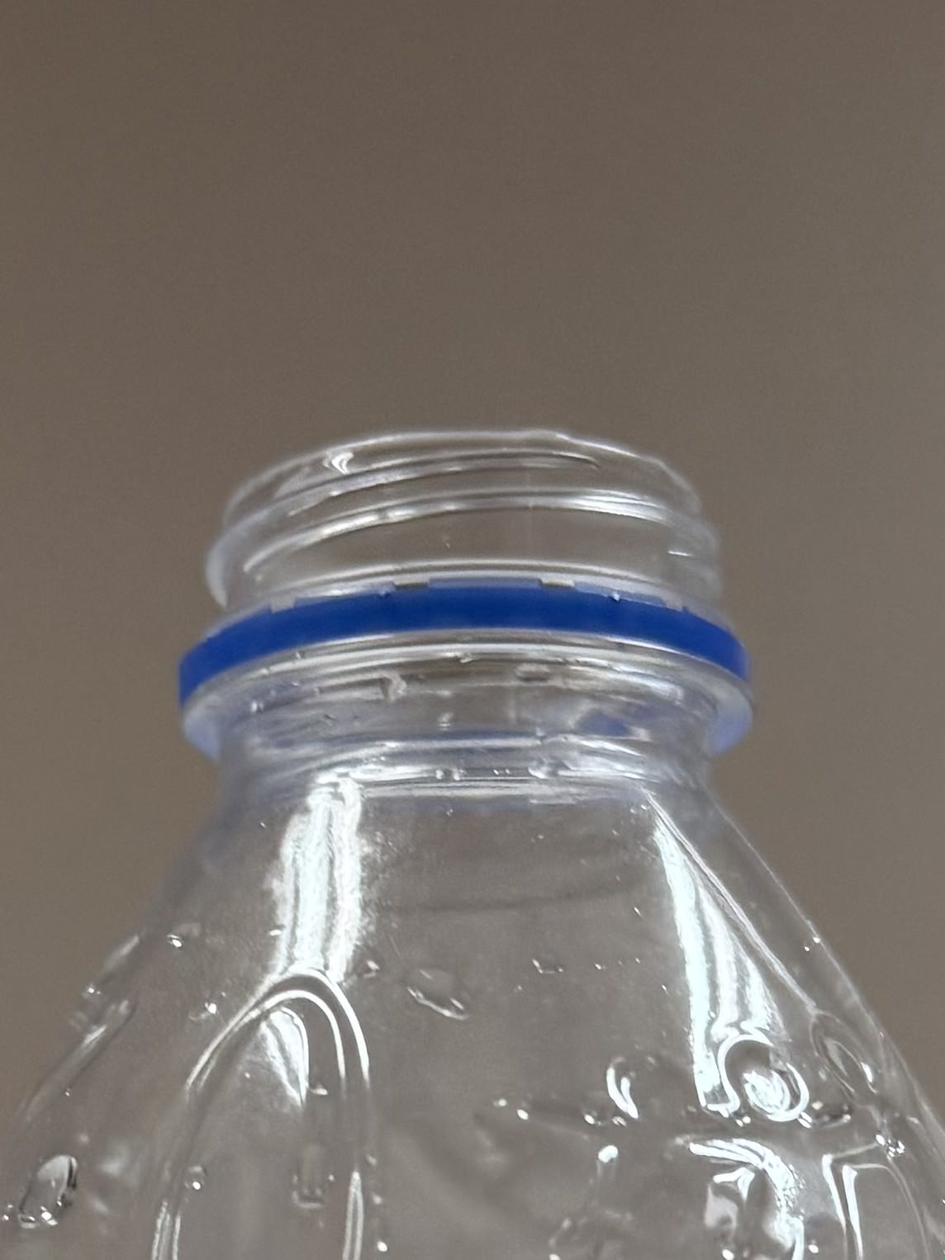no_cap: (173, 419, 761, 701)
